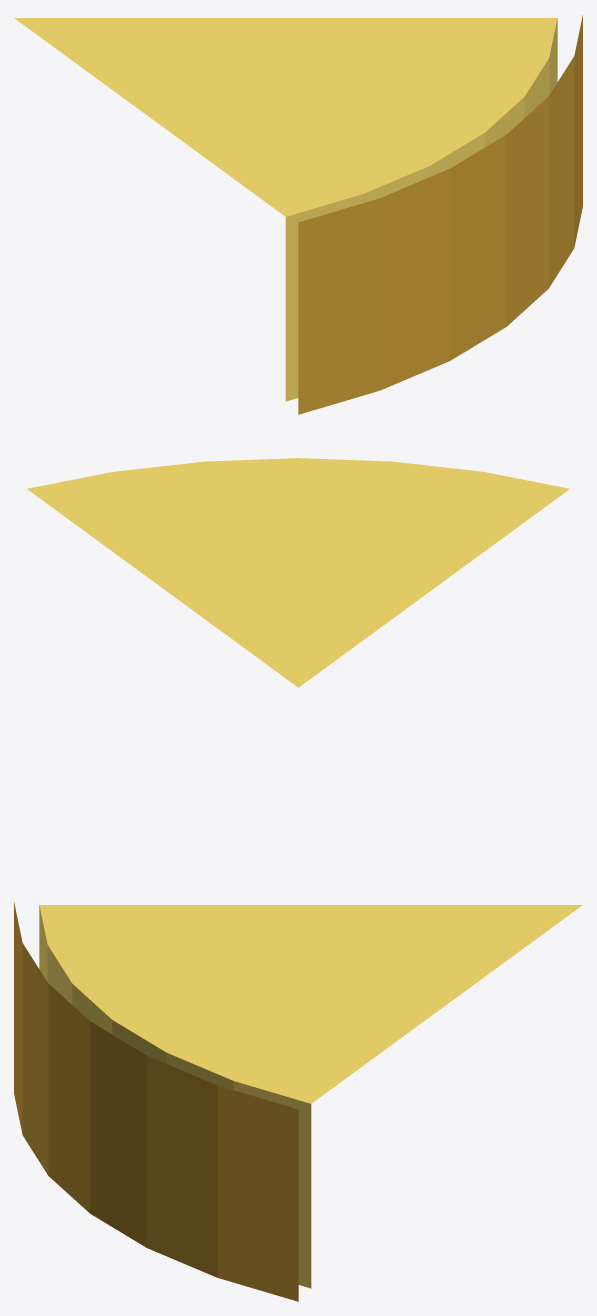
Rendered from food_ingredient_pineapple_chunks.gltf.
3 views of the same model, one above another, from view 1: azimuth 30°, elevation 25°; view 2: azimuth 150°, elevation 25°; view 3: azimuth 270°, elevation 25° (orthographic).
Visible parts, largest first — view 1: food_ingredient_pineapple_chunks; view 2: food_ingredient_pineapple_chunks; view 3: food_ingredient_pineapple_chunks.
Part boxes in pixels (x1,y1,x2,y2): food_ingredient_pineapple_chunks: [14, 15, 582, 414]; food_ingredient_pineapple_chunks: [27, 458, 569, 687]; food_ingredient_pineapple_chunks: [14, 902, 582, 1301].
Size of the model in its own units: 0.2901 by 0.125 by 0.335.
